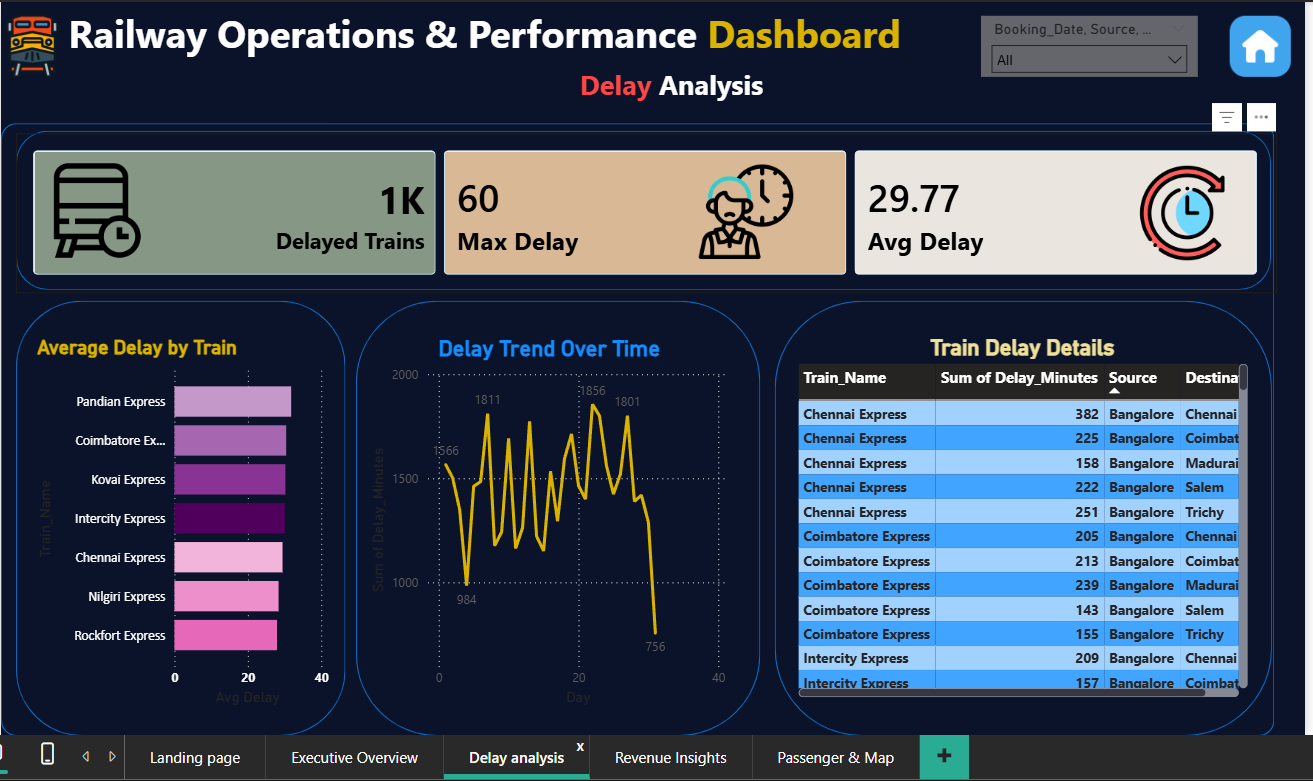

What the dashboard file says about the page in this screenshot:
{"tool":"powerbi","page":{"name":"Delay analysis","canvas":[1280,720],"ordinal":2},"visuals":[{"type":"shape","box":[131.3,341.1,598.8,193.9],"z":0},{"type":"shape","box":[535.2,359.5,367.8,178.4],"z":1000},{"type":"image","box":[0,0,61.7,86.4],"z":2000},{"type":"textbox","box":[61.7,0,916.6,63.1],"z":3000},{"type":"shape","box":[0,118.9,1249.9,601.4],"z":4000},{"type":"shape","box":[15.2,125.8,1231.9,156.2],"z":5000},{"type":"cardVisual","fields":{"Data":["Measure_Table.Delayed Trains","Measure_Table.Max Delay","Measure_Table.Avg Delay"]},"box":[15.1,129,1237.7,156.4],"z":6000},{"type":"shape","box":[15.2,293.1,323.5,427.2],"z":7000},{"type":"textbox","box":[562.7,58.1,214.3,58.1],"z":8000},{"type":"clusteredBarChart","title":"Average Delay by Train","fields":{"Category":["railways.Train_Name"],"Y":["Measure_Table.Avg Delay"]},"box":[30.4,327.7,295.9,367.8],"z":9000},{"type":"shape","box":[348.4,293.1,396.8,427.2],"z":10000},{"type":"lineChart","title":"Delay Trend Over Time","fields":{"Y":["Sum(railways.Delay_Minutes)"],"Category":["railways.Booking_Date.Variation.Date Hierarchy.Day"]},"box":[356.7,327.7,362.2,367.8],"z":11000},{"type":"shape","box":[759,293.1,488.1,427.2],"z":12000},{"type":"tableEx","title":"Train Delay Details","fields":{"Values":["railways.Train_Name","Sum(railways.Delay_Minutes)","railways.Source","railways.Destination"]},"box":[777,326.3,452.1,360.9],"z":13000},{"type":"image","box":[41.6,158.1,105.4,92.9],"z":14000},{"type":"image","box":[678.3,159.5,105.4,92.9],"z":15000},{"type":"image","box":[1106.9,160.9,105.4,92.9],"z":16000},{"type":"slicer","fields":{"Values":["railways.Booking_Date","railways.Source","railways.Ticket_Class"]},"box":[961.9,13.7,212.7,60.4],"z":17000},{"type":"image","box":[1203.4,13.7,64.5,60.4],"z":18000}]}

Visuals, with their boxes on the page's 1280x720 design canvas (x1, y1, x2, y2). These are canvas units, not pixel positions in the 1313x781 screenshot, which may show the page scaled, cropped or inside an application window:
shape: [131,341,730,535]
shape: [535,360,903,538]
image: [0,0,62,86]
textbox: [62,0,978,63]
shape: [0,119,1250,720]
shape: [15,126,1247,282]
cardVisual - Measure_Table.Delayed Trains x Measure_Table.Max Delay: [15,129,1253,285]
shape: [15,293,339,720]
textbox: [563,58,777,116]
"Average Delay by Train" clusteredBarChart: [30,328,326,696]
shape: [348,293,745,720]
"Delay Trend Over Time" lineChart: [357,328,719,696]
shape: [759,293,1247,720]
"Train Delay Details" tableEx: [777,326,1229,687]
image: [42,158,147,251]
image: [678,160,784,252]
image: [1107,161,1212,254]
slicer - railways.Booking_Date x railways.Source: [962,14,1175,74]
image: [1203,14,1268,74]
